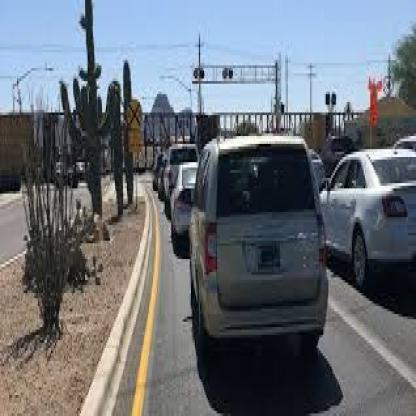car: (180, 126, 342, 360), (320, 159, 416, 285), (163, 156, 216, 231), (160, 133, 197, 208), (393, 117, 416, 174)
